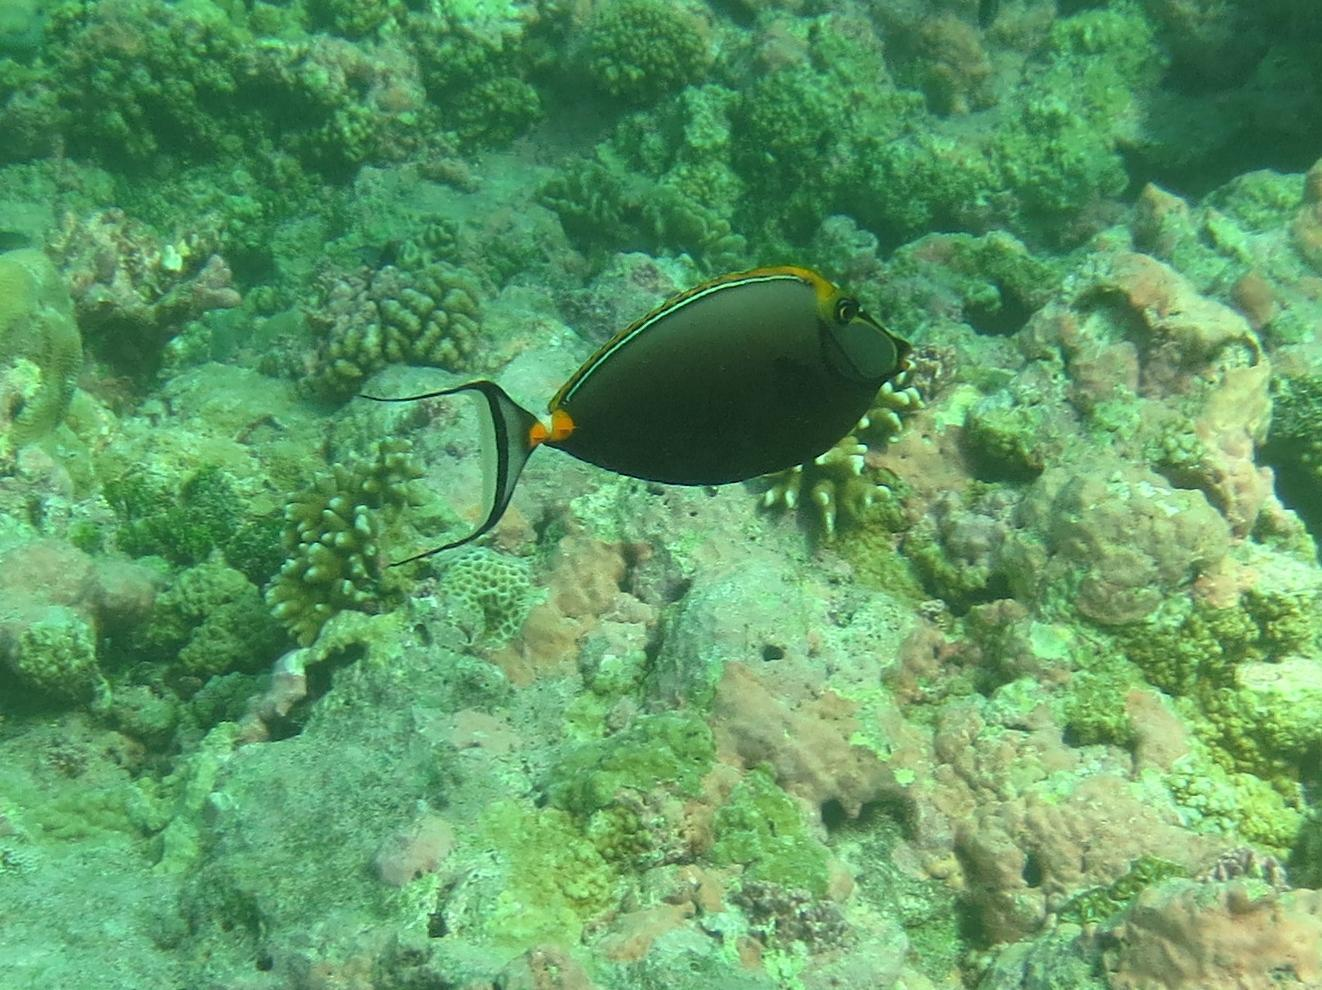Fish: (260, 229, 1014, 622)
